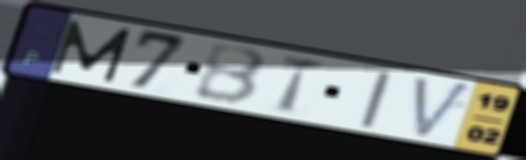7: (127, 25, 190, 92)
B: (191, 42, 270, 107)
I: (356, 69, 396, 131)
M: (47, 17, 136, 85)
T: (276, 52, 331, 117)
V: (411, 74, 476, 142)
